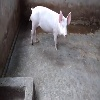heo: (28, 4, 75, 52)
